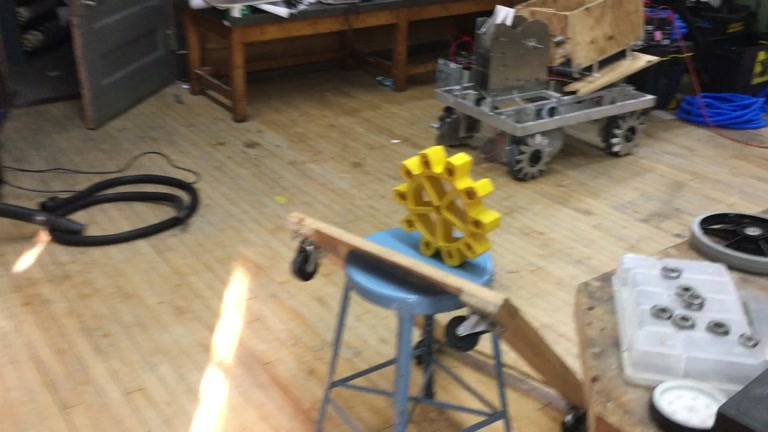gear: (396, 143, 502, 267)
